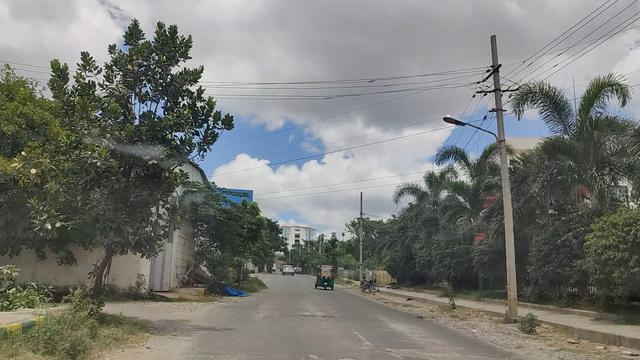RoadDamages: (282, 306, 357, 328), (357, 339, 426, 360)
